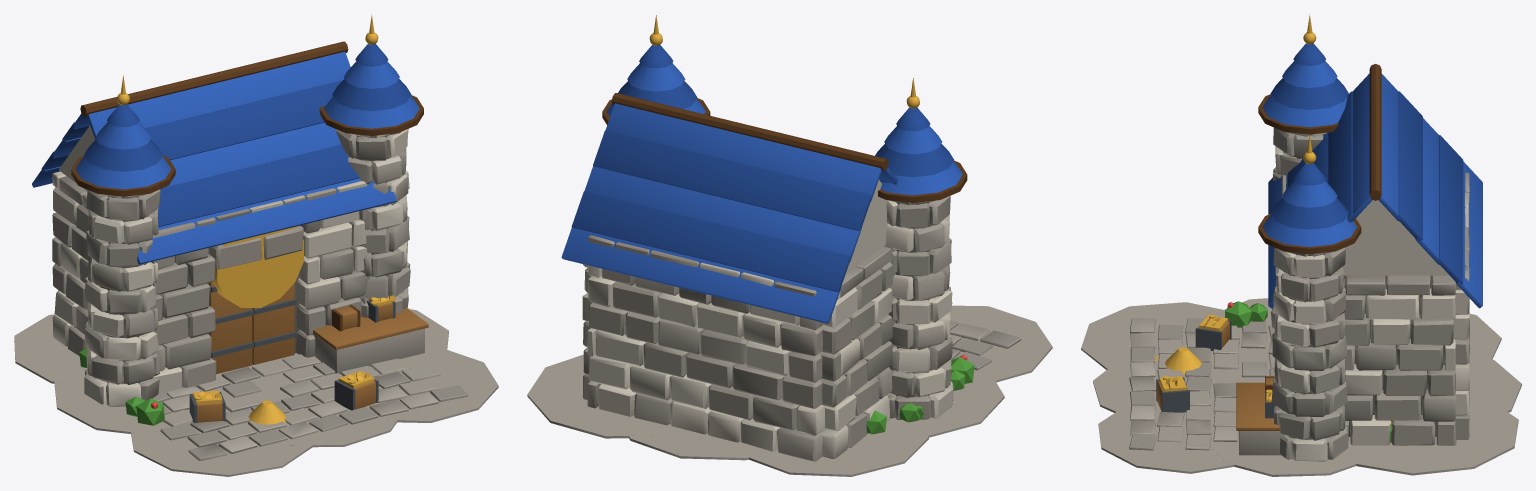
Rendered from magazyn_poz18.glb.
The picture shows the model from 3 angles, left to right: view 1: azimuth 30°, elevation 25°; view 2: azimuth 150°, elevation 25°; view 3: azimuth 270°, elevation 25°; orthographic projection. The views are drawn at different scales.
Visible parts, largest first — view 1: magazyn_poz18; view 2: magazyn_poz18; view 3: magazyn_poz18.
Boxes of the visible parts, left/top/right/bottom form: magazyn_poz18: left=14, top=14, right=498, bottom=476; magazyn_poz18: left=527, top=15, right=1052, bottom=476; magazyn_poz18: left=1081, top=14, right=1521, bottom=476.
Bounding box in the file's own units: 8.39 × 7 × 8.71.
